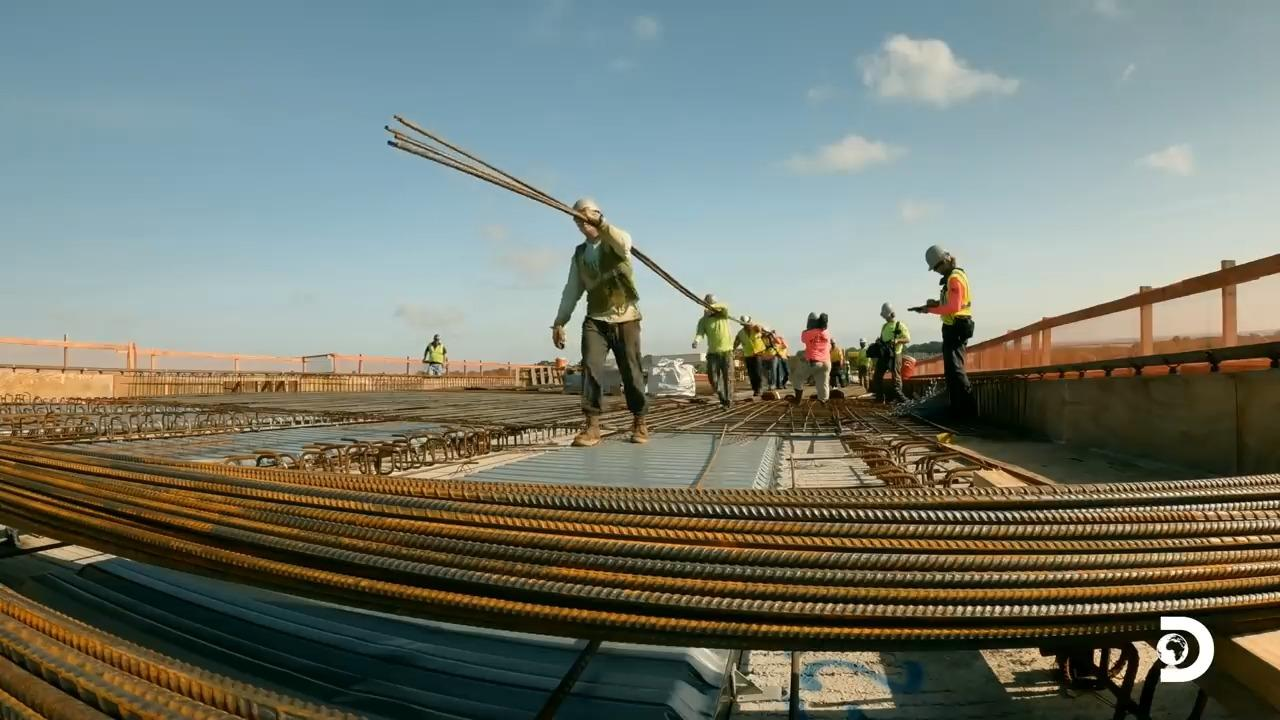Gloves: (574, 204, 597, 224), (546, 322, 566, 345)
Helmet: (695, 281, 732, 315), (572, 198, 602, 223), (925, 244, 947, 270), (880, 302, 894, 319), (739, 312, 753, 324), (807, 312, 819, 320), (858, 338, 865, 344), (830, 337, 836, 343)
Person: (550, 197, 649, 446), (907, 244, 977, 420), (691, 293, 733, 409), (796, 312, 838, 405), (874, 302, 907, 403), (737, 314, 770, 399), (422, 333, 448, 376), (828, 336, 844, 397), (856, 335, 871, 391)
Safety Boot: (571, 422, 599, 448), (631, 418, 649, 445)
Safety Vest: (578, 248, 630, 306), (943, 279, 968, 319), (741, 332, 764, 353), (884, 327, 905, 350), (429, 347, 444, 361), (859, 353, 870, 365)
no-vest: (708, 318, 732, 353), (805, 335, 829, 360)
